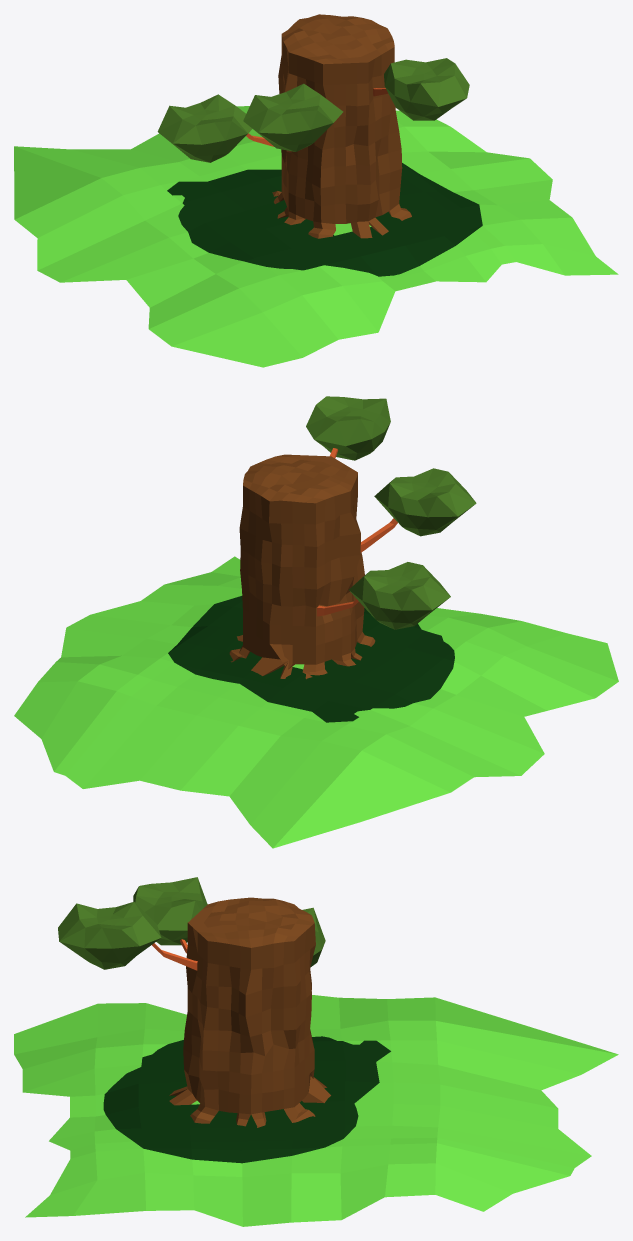
The picture shows the model from 3 angles, top to bottom: view 1: azimuth 30°, elevation 25°; view 2: azimuth 150°, elevation 25°; view 3: azimuth 270°, elevation 25°; orthographic projection. The views are drawn at different scales.
Visible parts, largest first — view 1: Grid, Cube, Icosphere.001, Icosphere, Icosphere.002; view 2: Grid, Cube, Icosphere.001, Icosphere, Icosphere.002; view 3: Grid, Cube, Icosphere.002, Icosphere.001.
Part boxes in pixels (box(x1,y1,x2,y2)): Grid: box(14, 106, 618, 367); Cube: box(272, 14, 411, 238); Icosphere.001: box(243, 83, 343, 151); Icosphere: box(157, 94, 252, 162); Icosphere.002: box(384, 58, 469, 120); Grid: box(14, 556, 618, 848); Cube: box(229, 454, 375, 679); Icosphere.001: box(374, 468, 476, 536); Icosphere: box(349, 562, 450, 629); Icosphere.002: box(306, 396, 390, 460); Grid: box(14, 995, 618, 1226); Cube: box(169, 897, 330, 1127); Icosphere.002: box(58, 902, 161, 969); Icosphere.001: box(133, 877, 207, 945).
Size of the model in its own units: 1310 by 578 by 1395.
